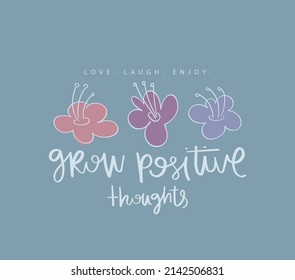flower: (52, 82, 121, 145), (126, 81, 179, 148), (186, 85, 243, 142)
